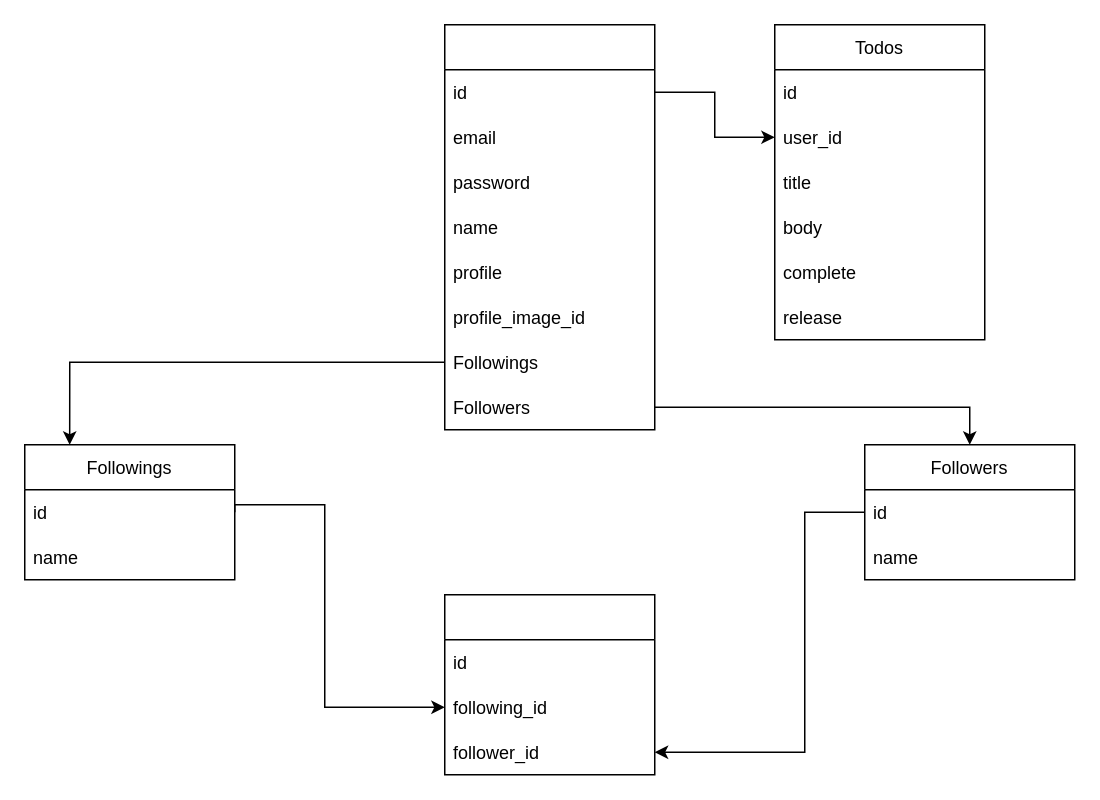
Some shapes in this 1100 by 800 pixel diagram are drawn without their labels. Each missing label, with the box of its shape:
Relationships: (443, 593, 655, 775)
Users: (443, 23, 655, 430)
